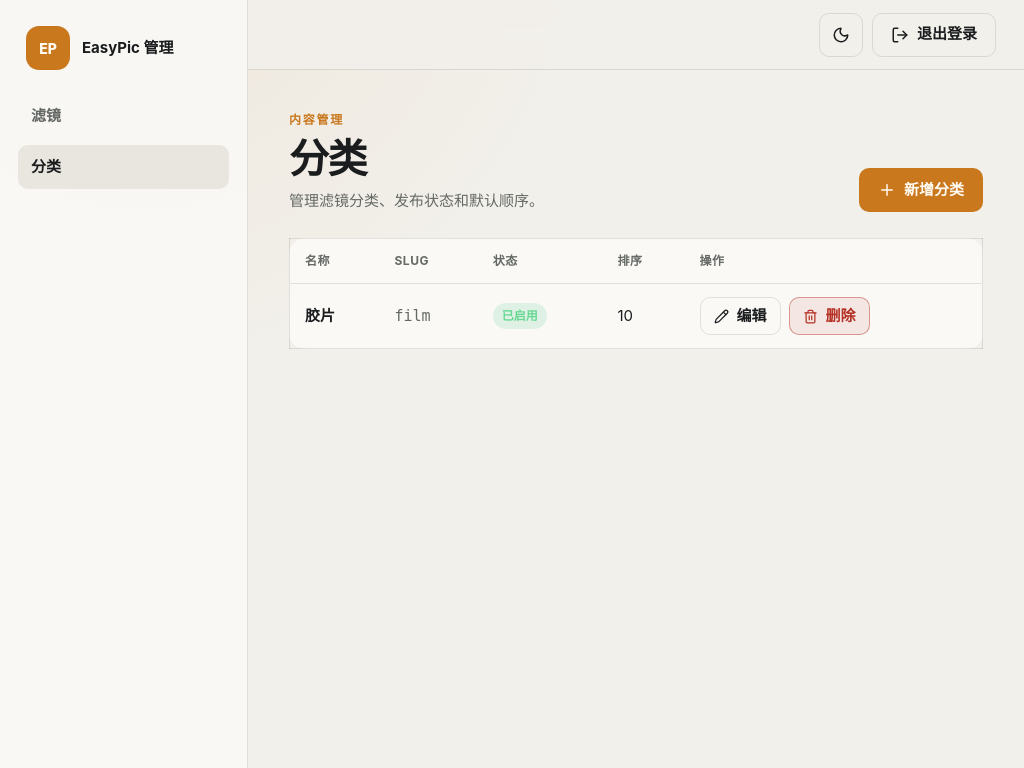
Scenario: category deletion › names the category, cancels without a request, then closes and refreshes after success
This screenshot has width=1024, height=768.
Click the button with aria-label "删除胶片" at point(829, 316), box x1=788 y1=298 x2=870 y2=336
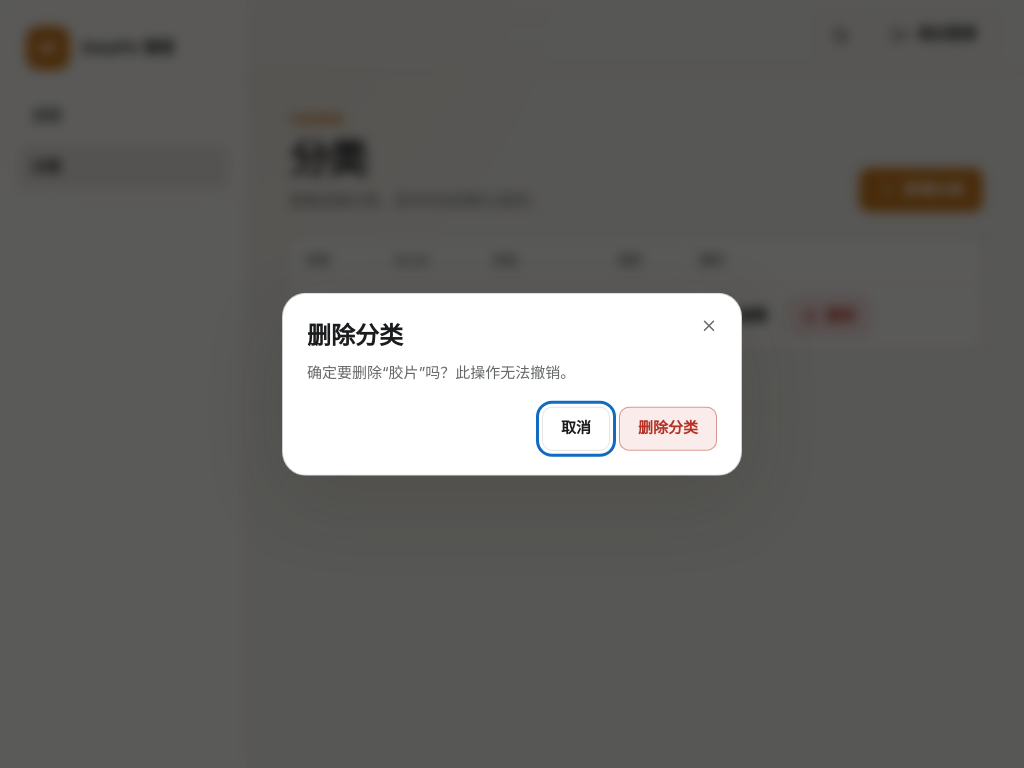
Expected: the text "确定要删除“胶片”吗？此操作无法撤销。" is shown, x1=307 y1=363 x2=575 y2=382
Click the button "取消" at point(576, 428), box x1=542 y1=406 x2=610 y2=450
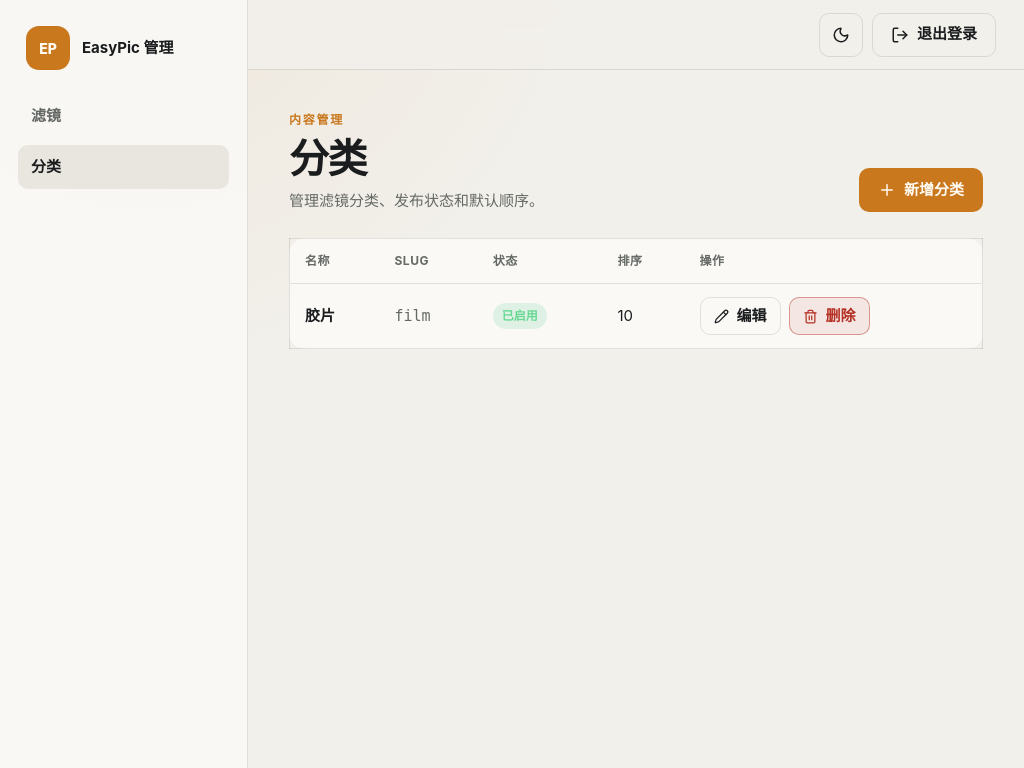
Click the button with aria-label "删除胶片" at point(829, 316), box x1=788 y1=298 x2=870 y2=336
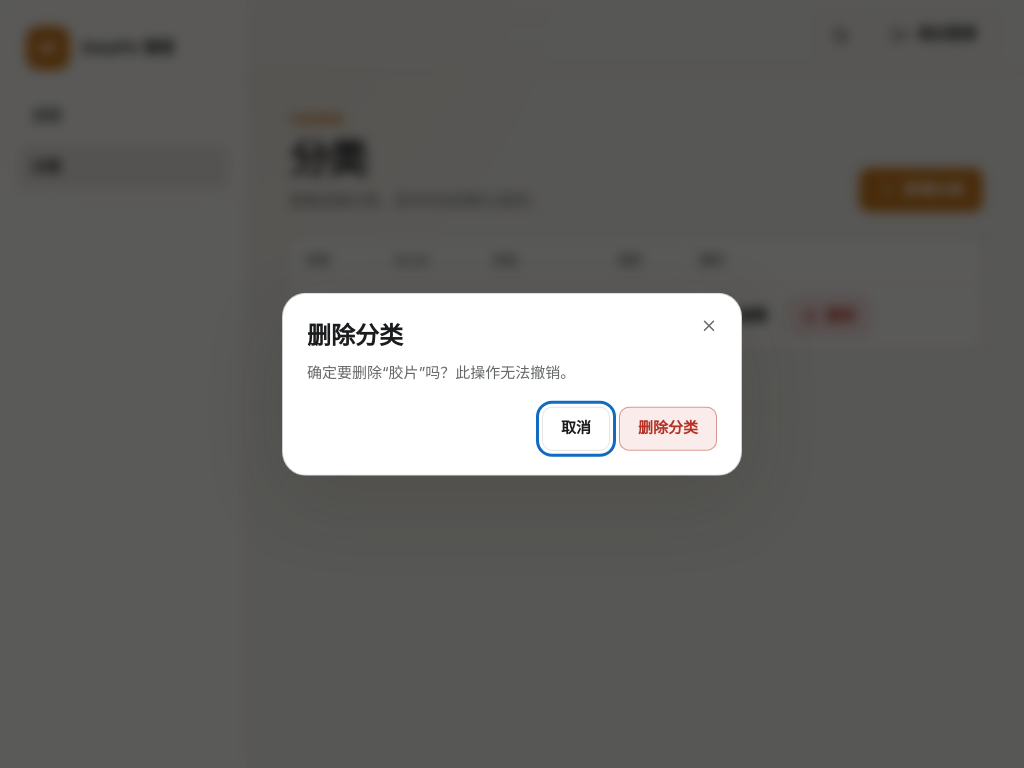
Click the button "删除分类" at point(668, 428), box x1=619 y1=406 x2=717 y2=450
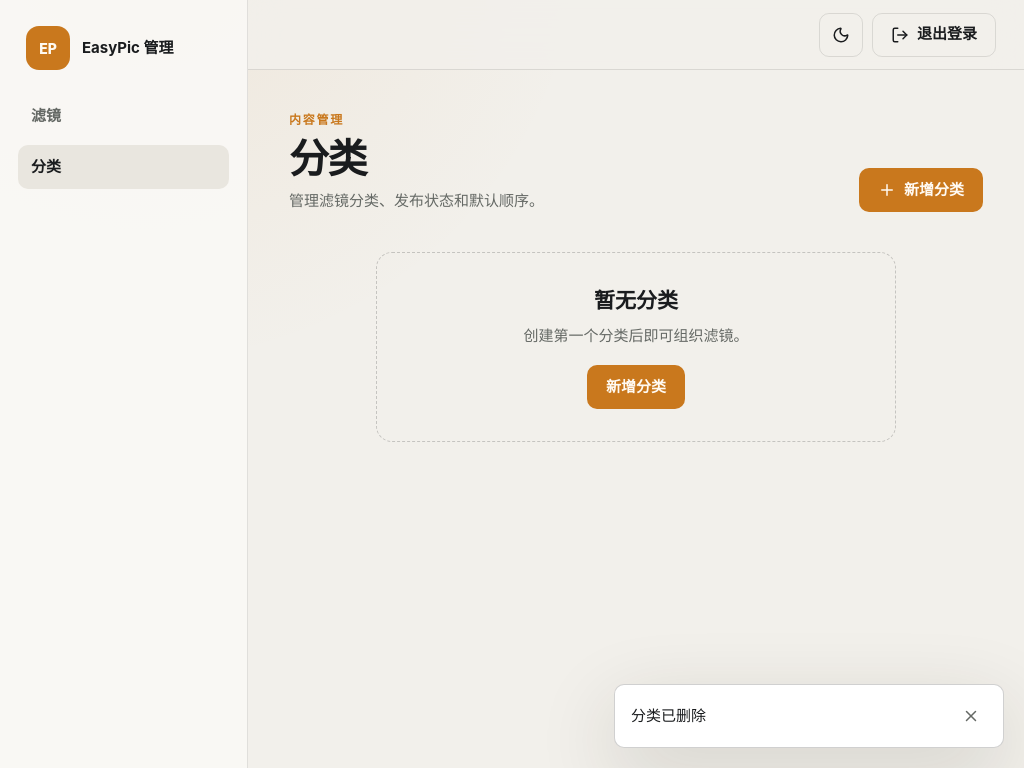
Expected: the text "分类已删除" is shown, x1=631 y1=705 x2=706 y2=727
Expected: the heading "删除分类" is gone
